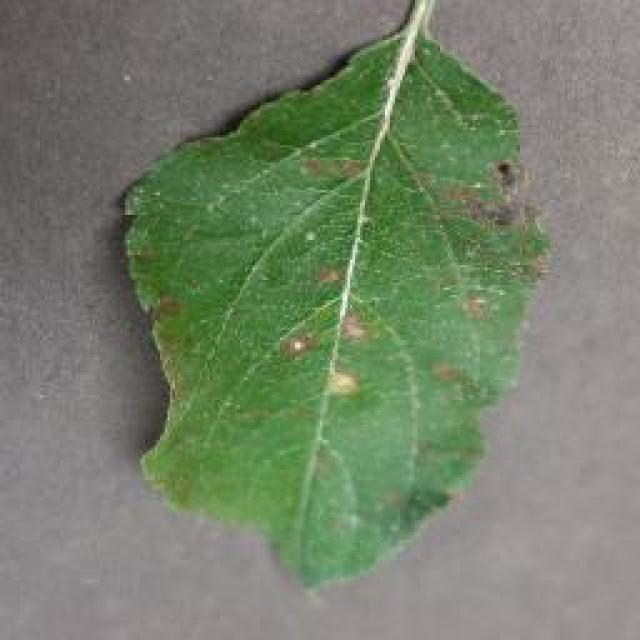apple scab disease: (117, 0, 554, 592)
